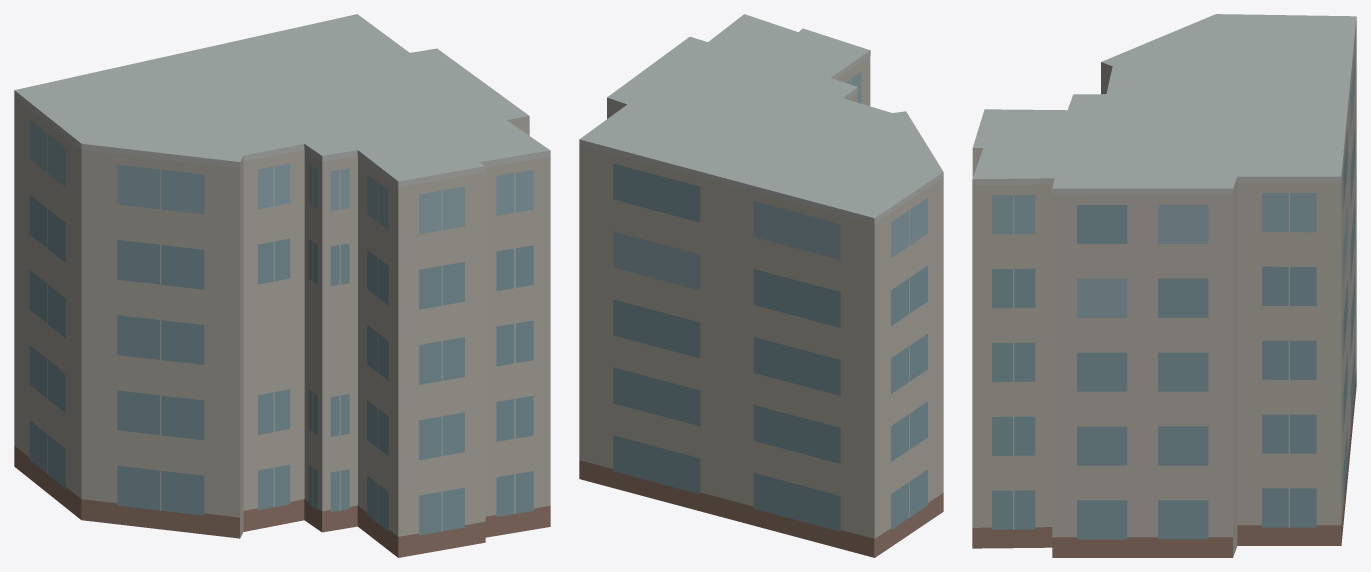
File: survey-upis-32965184.glb
3 views of the same model, side by side, from view 1: azimuth 30°, elevation 25°; view 2: azimuth 150°, elevation 25°; view 3: azimuth 270°, elevation 25° (orthographic). The views are drawn at different scales.
Parts seen in each view (by area): view 1: survey-upis-32965184.tmp; view 2: survey-upis-32965184.tmp; view 3: survey-upis-32965184.tmp.
Part boxes in pixels (<box>): survey-upis-32965184.tmp: <box>14,14,550,557</box>; survey-upis-32965184.tmp: <box>579,14,943,557</box>; survey-upis-32965184.tmp: <box>972,14,1356,557</box>.
Size of the model in its own units: 15.42 by 15.2 by 14.34.
